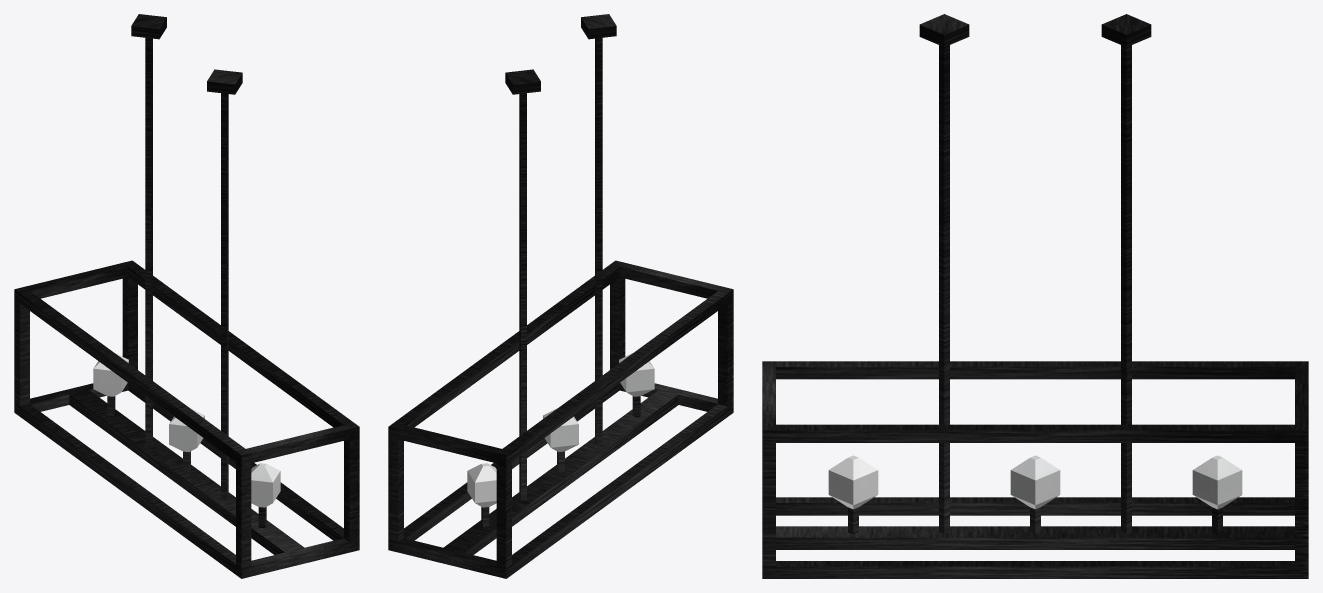
Rendered from Chandelier001.FBX.
3 views of the same model, side by side, from view 1: azimuth 30°, elevation 25°; view 2: azimuth 150°, elevation 25°; view 3: azimuth 270°, elevation 25° (orthographic). The views are drawn at different scales.
Visible parts, largest first — view 1: Chandelier001; view 2: Chandelier001; view 3: Chandelier001.
Boxes of the visible parts, bbox=[...] form: Chandelier001: bbox=[14, 14, 359, 578]; Chandelier001: bbox=[388, 14, 733, 578]; Chandelier001: bbox=[762, 14, 1308, 578].
Bounding box in the file's own units: 60 × 210 × 200.
